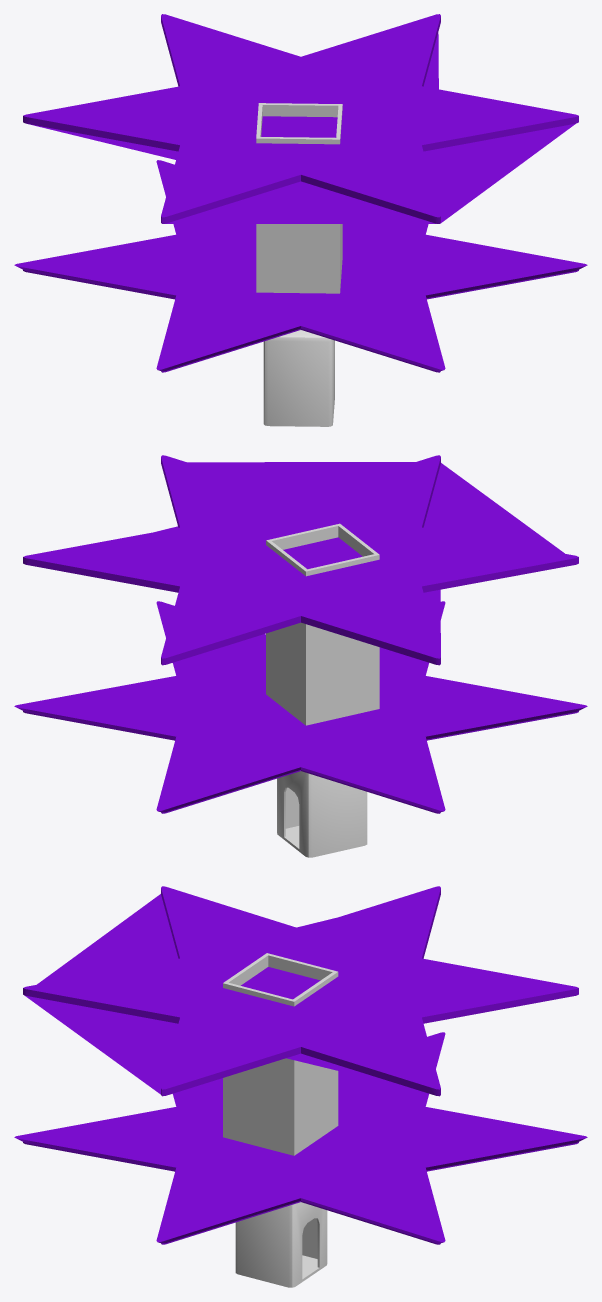
File: Lift.fbx
The picture shows the model from 3 angles, top to bottom: view 1: azimuth 30°, elevation 25°; view 2: azimuth 150°, elevation 25°; view 3: azimuth 270°, elevation 25°; orthographic projection.
Parts seen in each view (by area): view 1: Cube.001, Cube, Cube.003, Cube.002; view 2: Cube.001, Cube, Cube.003, Cube.002; view 3: Cube.001, Cube, Cube.003, Cube.002.
Part boxes in pixels (x1,y1,x2,y2): Cube.001: [23, 14, 578, 223]; Cube: [14, 160, 587, 372]; Cube.003: [256, 103, 342, 293]; Cube.002: [263, 330, 334, 426]; Cube.001: [23, 455, 578, 665]; Cube: [14, 601, 587, 813]; Cube.003: [266, 523, 379, 725]; Cube.002: [277, 771, 367, 857]; Cube.001: [23, 886, 578, 1096]; Cube: [14, 1032, 587, 1244]; Cube.003: [223, 953, 338, 1155]; Cube.002: [235, 1202, 327, 1287].
Size of the model in its own units: 187 by 121 by 216.
